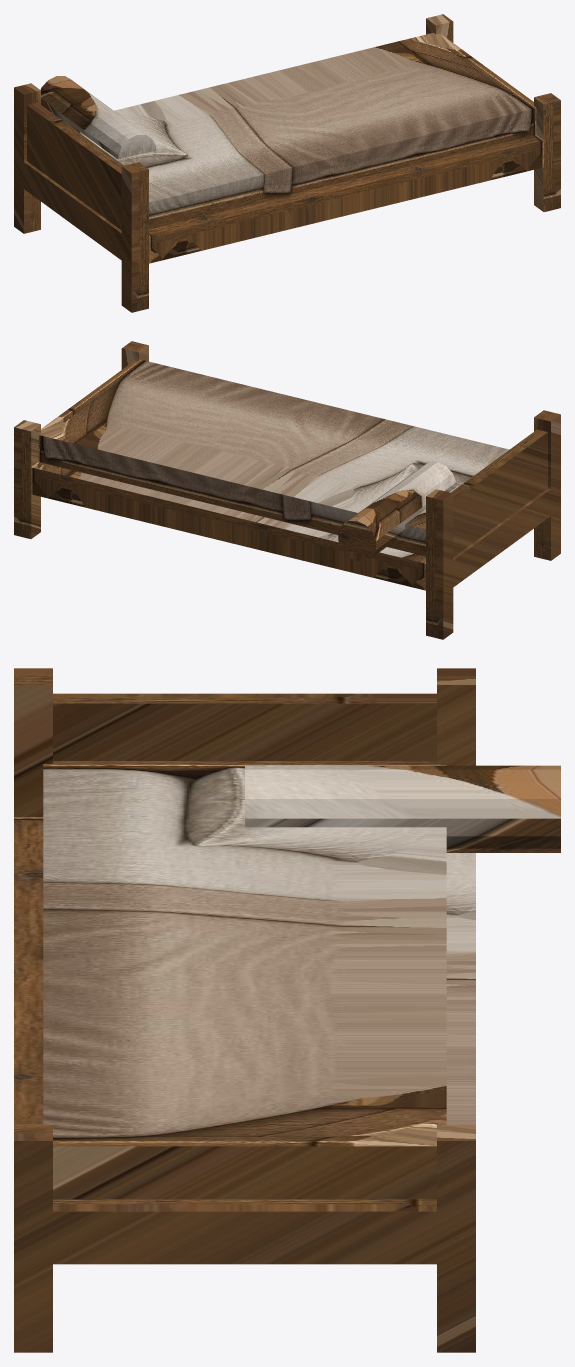
Rendered from v3-bedroom-bed.glb.
3 renders of one model, top to bottom at view 1: azimuth 30°, elevation 25°; view 2: azimuth 150°, elevation 25°; view 3: azimuth 270°, elevation 25°, orthographic. The views are drawn at different scales.
Visible parts, largest first — view 1: v3-bedroom-bed; view 2: v3-bedroom-bed; view 3: v3-bedroom-bed.
Boxes of the visible parts, bbox=[...] form: v3-bedroom-bed: bbox=[14, 14, 560, 312]; v3-bedroom-bed: bbox=[14, 341, 560, 639]; v3-bedroom-bed: bbox=[14, 668, 560, 1352].
Size of the model in its own units: 2 by 0.62 by 1.12.
Materials: 1 (1 with a texture image).
